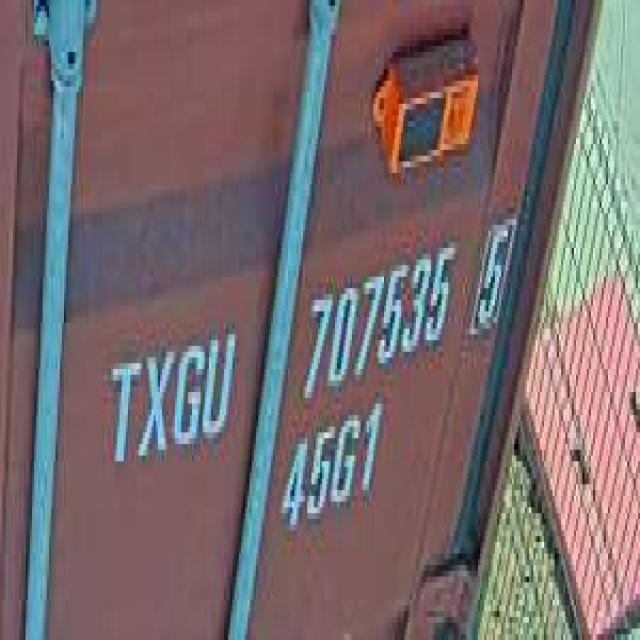dv: (471, 200, 516, 358)
owner: (100, 312, 237, 478)
serial: (298, 230, 456, 404)
size: (276, 404, 390, 542)
